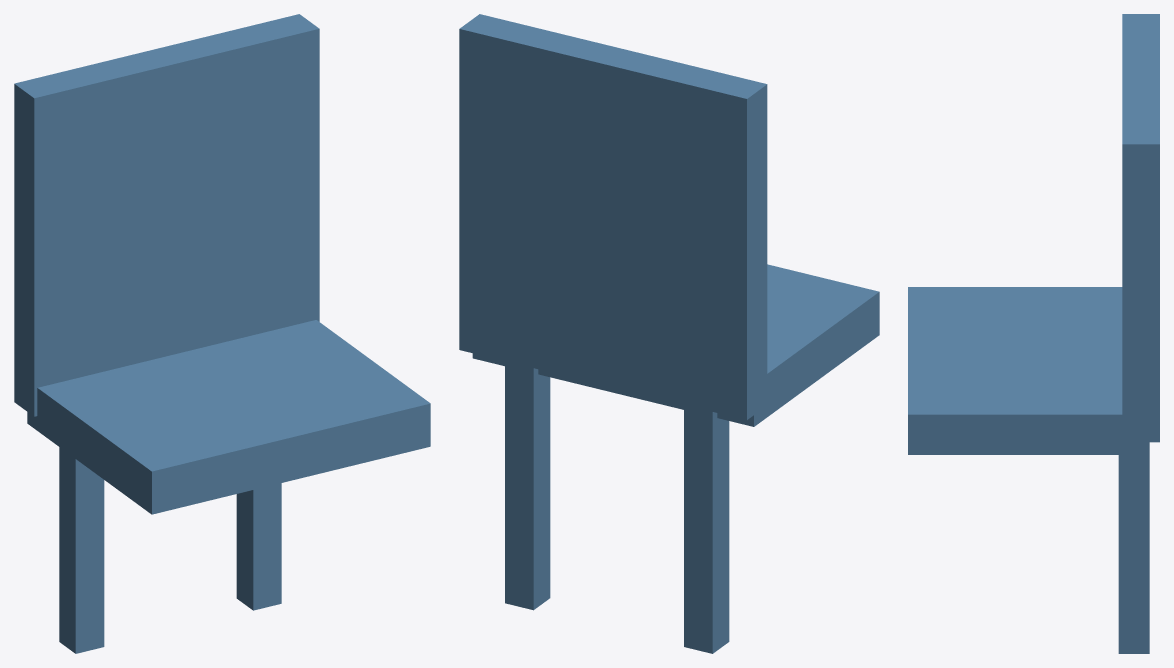
Rendered from seat_lod2.glb.
3 views of the same model, side by side, from view 1: azimuth 30°, elevation 25°; view 2: azimuth 150°, elevation 25°; view 3: azimuth 270°, elevation 25° (orthographic). The views are drawn at different scales.
Parts seen in each view (by area): view 1: Seat_LOD2_Mesh; view 2: Seat_LOD2_Mesh; view 3: Seat_LOD2_Mesh.
Boxes of the visible parts, x1,y1,x2,y2 form: Seat_LOD2_Mesh: (14, 14, 430, 653); Seat_LOD2_Mesh: (459, 14, 879, 653); Seat_LOD2_Mesh: (908, 14, 1159, 653).
Size of the model in its own units: 0.45 by 0.85 by 0.3675.
